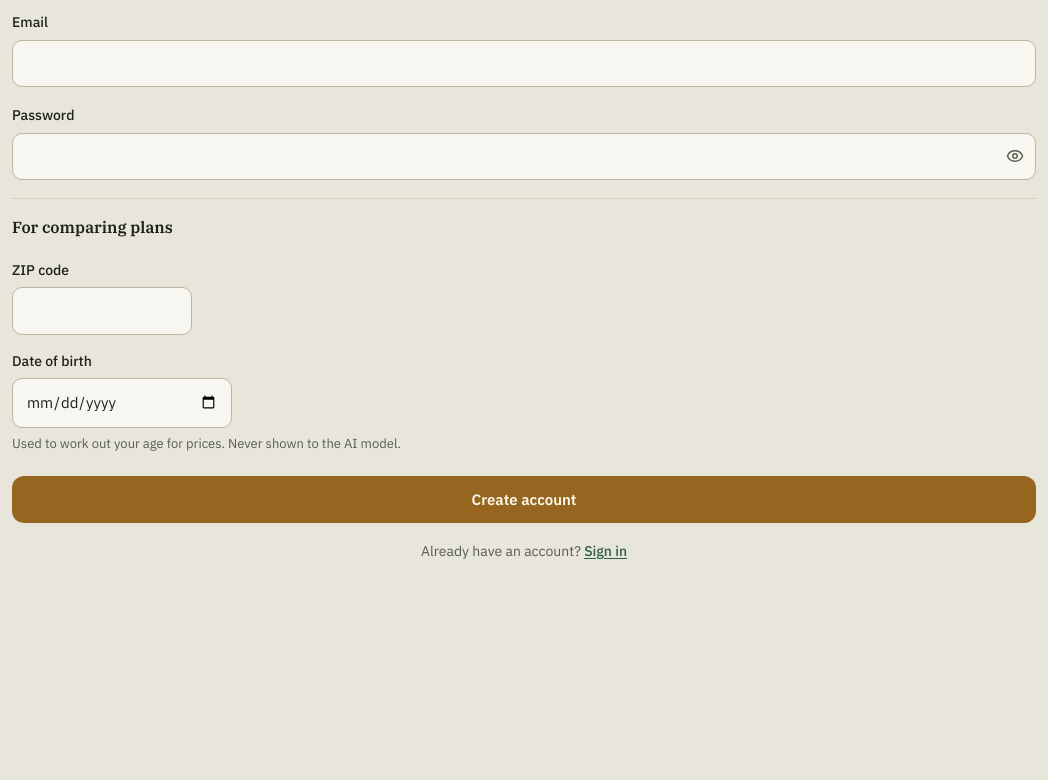
AuthForm › requires at least 8 characters to register
Step 1. Type "alice@example.com" into the field labelled "Email" → (524, 63), box [12,40,1036,87]
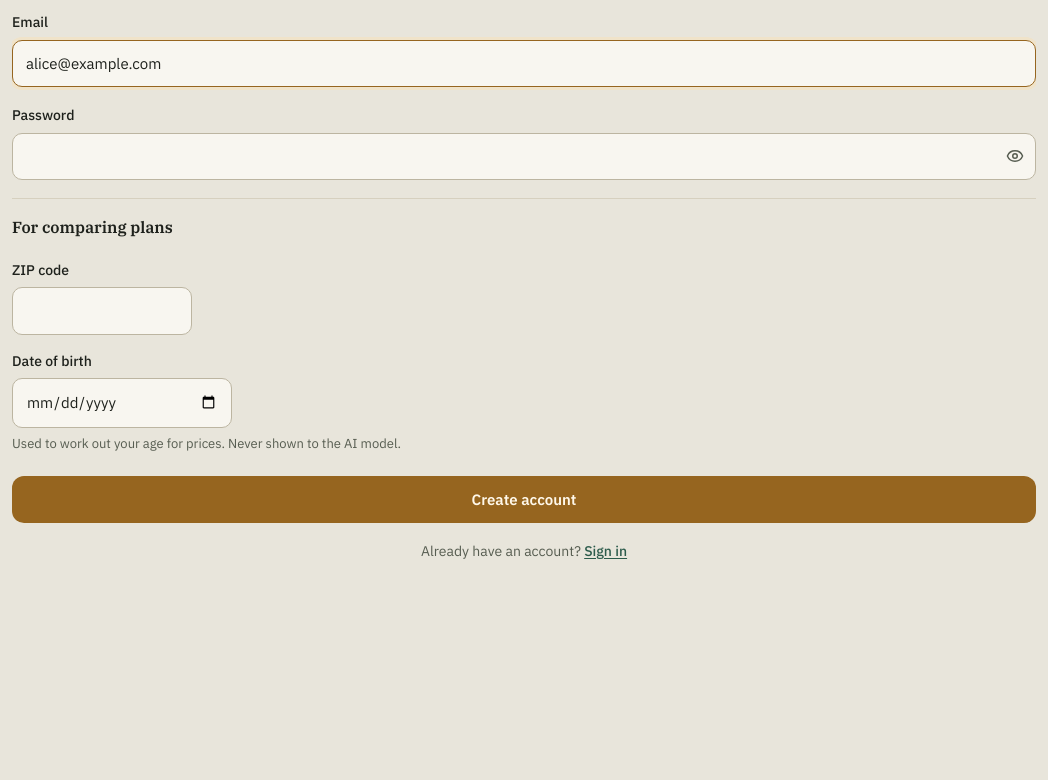
Step 2. Type "short" into the password field labelled "Password" → (524, 156), box [12,133,1036,180]
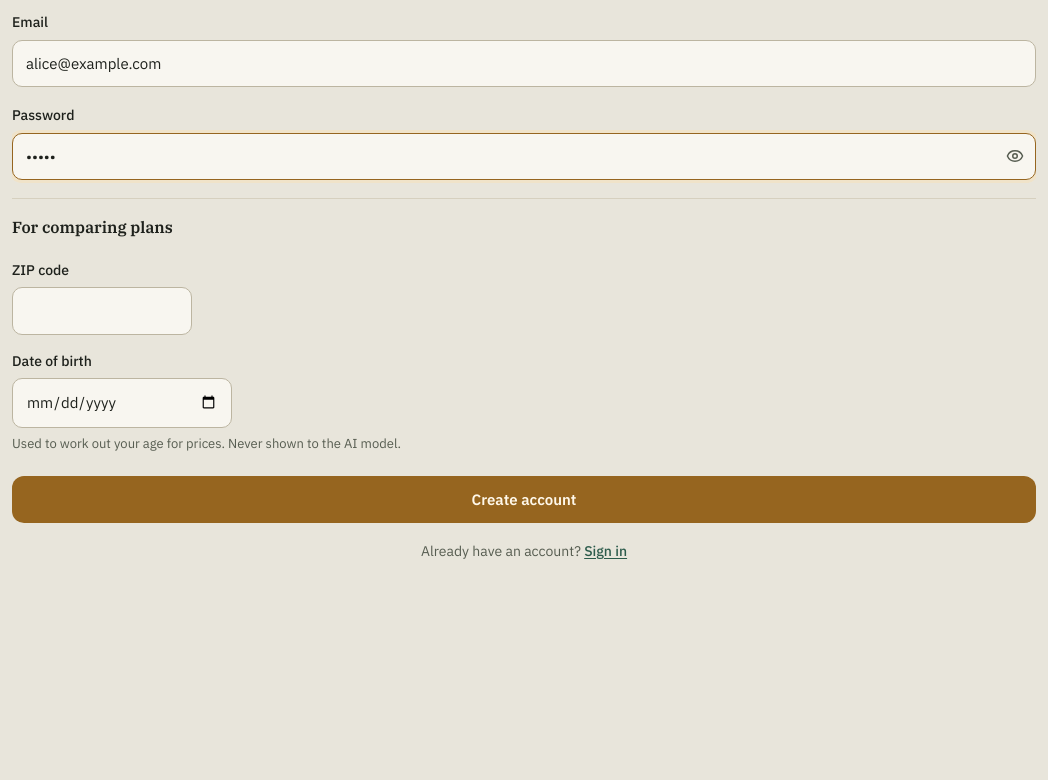
Step 3. Click the button "Create account" → (524, 499), box [12,476,1036,523]
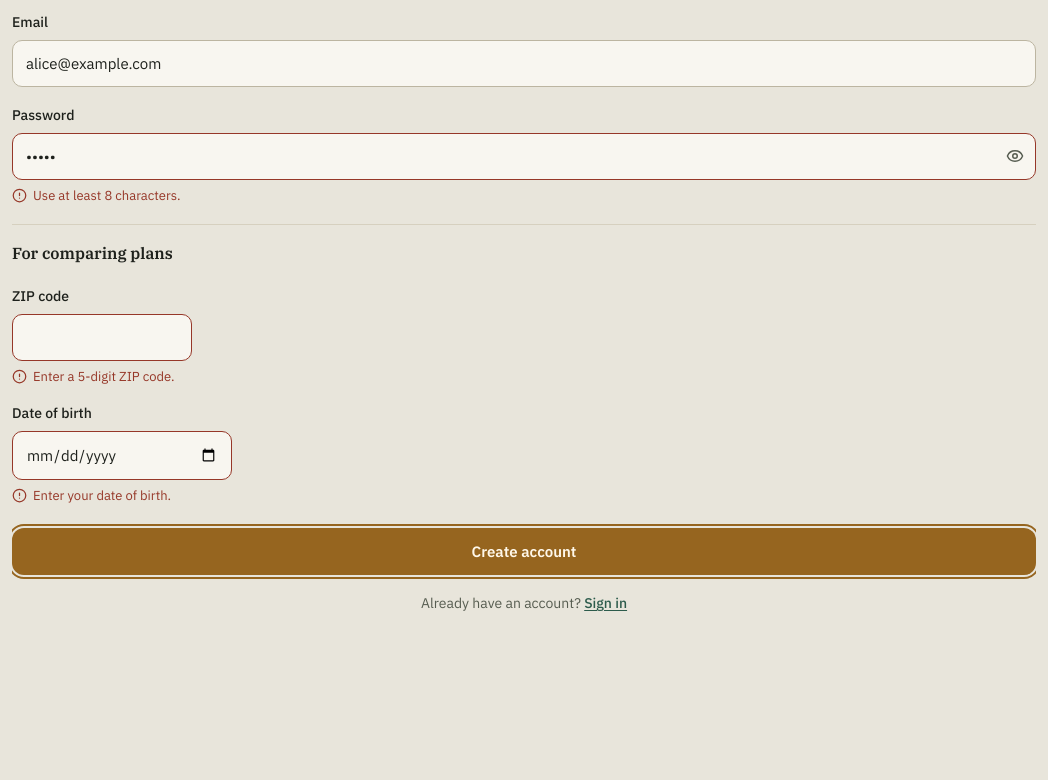
Expected: the text "Use at least 8 characters." is shown, [12,187,181,204]
